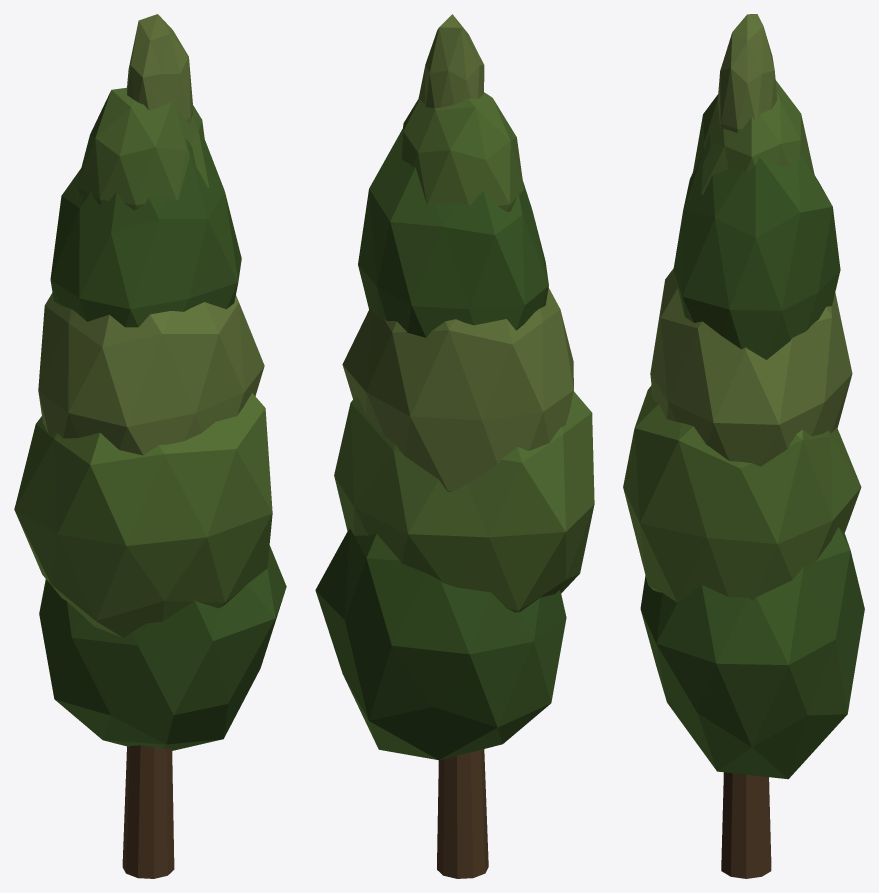
The model's file is tree_cypress.glb.
3 views of the same model, side by side, from view 1: azimuth 30°, elevation 25°; view 2: azimuth 150°, elevation 25°; view 3: azimuth 270°, elevation 25° (orthographic).
Visible parts, largest first — view 1: Foliage crown.001, Foliage crown, Foliage crown.002, Foliage crown.003, Foliage crown.004, Bark branch, Foliage crown.005; view 2: Foliage crown, Foliage crown.001, Foliage crown.002, Foliage crown.003, Foliage crown.004, Bark branch, Foliage crown.005; view 3: Foliage crown, Foliage crown.001, Foliage crown.003, Foliage crown.002, Foliage crown.004, Foliage crown.005, Bark branch.
Part boxes in pixels (x1,y1,x2,y2): Foliage crown.001: [14, 393, 272, 637]; Foliage crown: [39, 545, 286, 750]; Foliage crown.002: [38, 292, 264, 455]; Foliage crown.003: [50, 138, 241, 327]; Foliage crown.004: [76, 87, 209, 210]; Bark branch: [122, 745, 174, 878]; Foliage crown.005: [126, 14, 193, 123]; Foliage crown: [315, 528, 566, 760]; Foliage crown.001: [334, 391, 594, 612]; Foliage crown.002: [342, 288, 573, 491]; Foliage crown.003: [358, 128, 548, 337]; Foliage crown.004: [400, 92, 523, 211]; Bark branch: [437, 749, 488, 878]; Foliage crown.005: [418, 14, 484, 108]; Foliage crown: [640, 527, 864, 779]; Foliage crown.001: [623, 385, 861, 602]; Foliage crown.003: [673, 133, 840, 359]; Foliage crown.002: [650, 268, 852, 466]; Foliage crown.004: [692, 80, 814, 195]; Foliage crown.005: [717, 14, 777, 132]; Bark branch: [721, 772, 771, 878].
Bounding box in the file's own units: 293 × 973 × 249.
